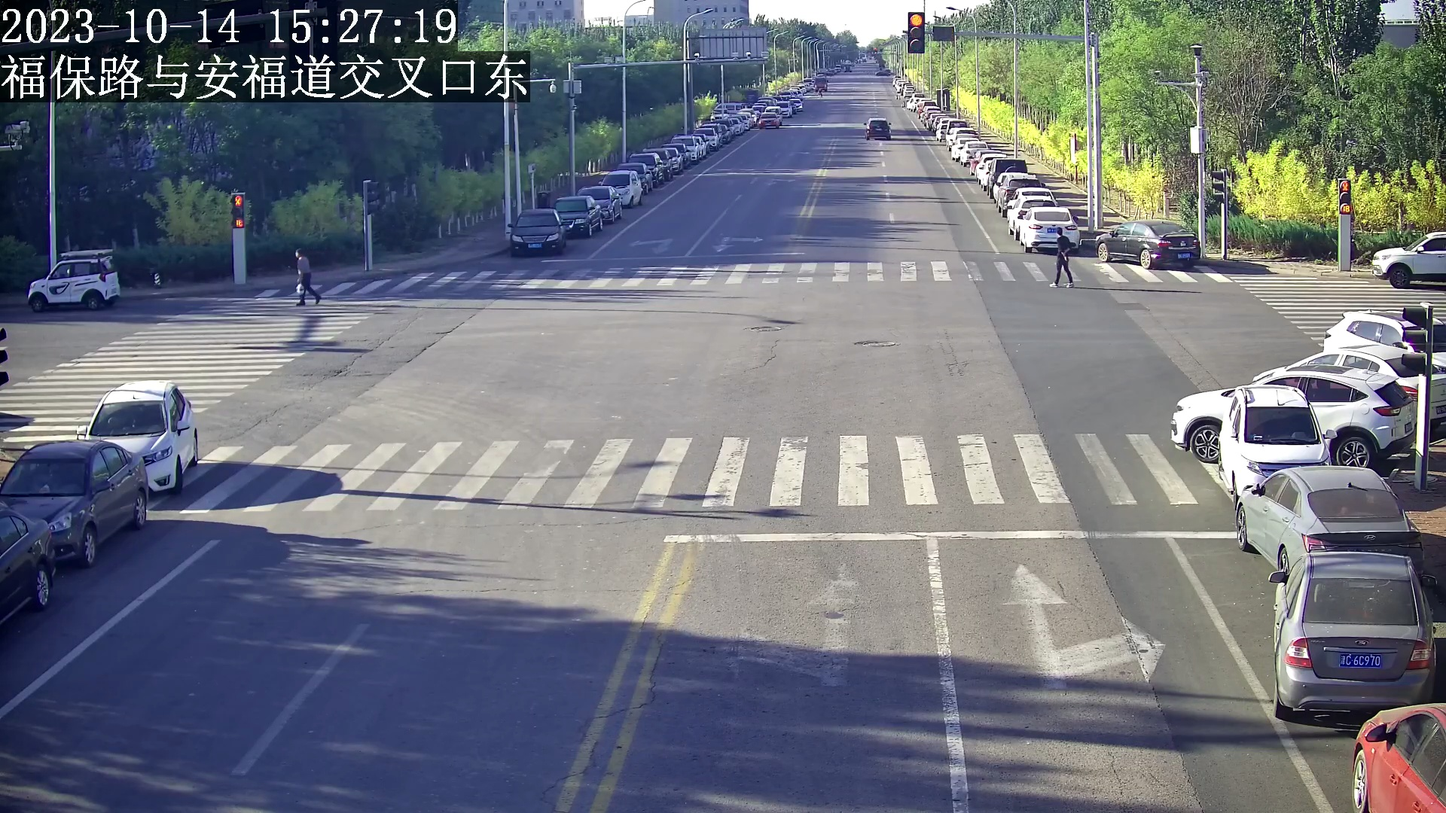person: (1045, 224, 1080, 292), (288, 245, 325, 308)
vehicle: (1270, 547, 1433, 708), (1171, 361, 1404, 468), (1237, 460, 1420, 565), (3, 434, 150, 562), (75, 375, 198, 492), (1223, 380, 1334, 480), (1350, 705, 1446, 811), (22, 245, 115, 316), (1092, 215, 1192, 272), (1373, 221, 1445, 289), (507, 208, 557, 256), (1024, 206, 1077, 248), (547, 194, 598, 232)
